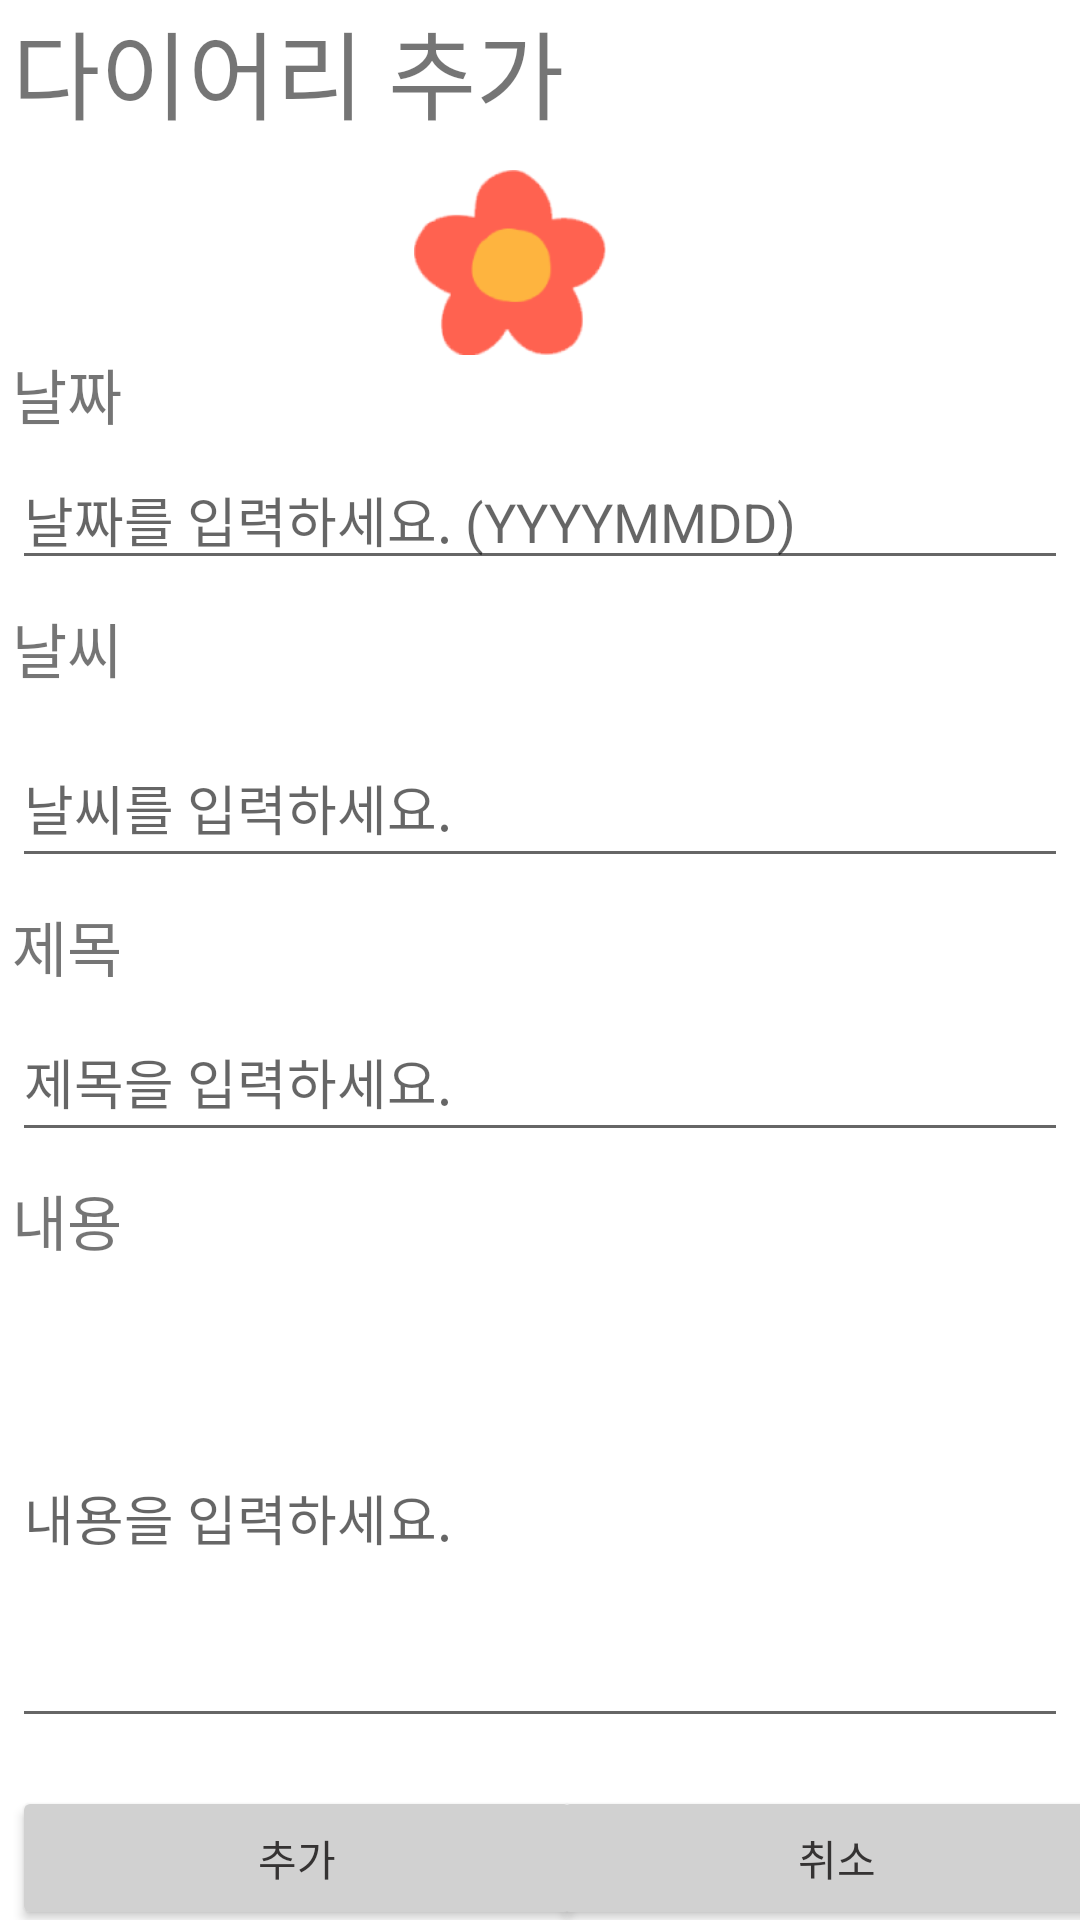

Point at icon controls on the screen. Image size 1080w x 1920h, points as [x,y].
flower: [510,262]
